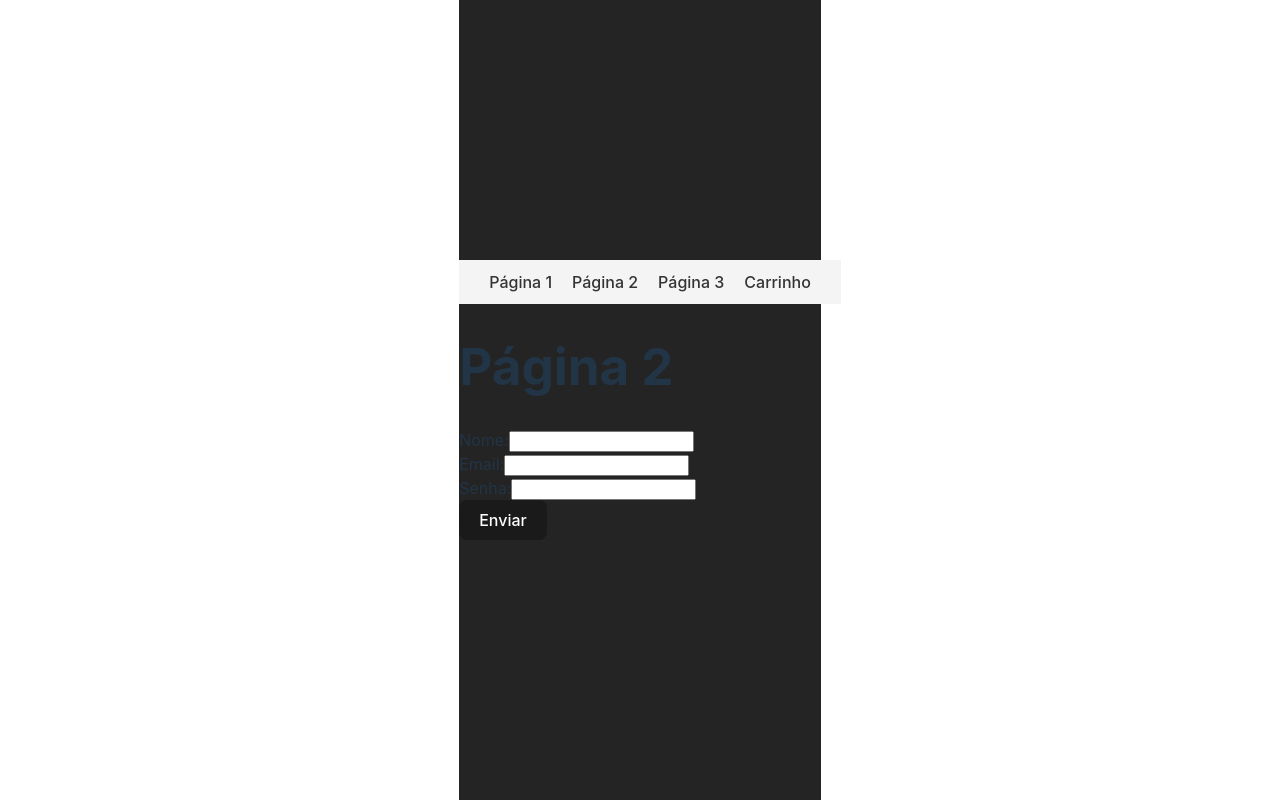
Test: Teste do Formulário - Página 2 › Deve fechar o modal ao clicar no botão de fechar
# Preencher e enviar o formulário
Type "Maria Santos" into the field with test id "nome-input" at (602, 443), box [509, 432, 694, 453]
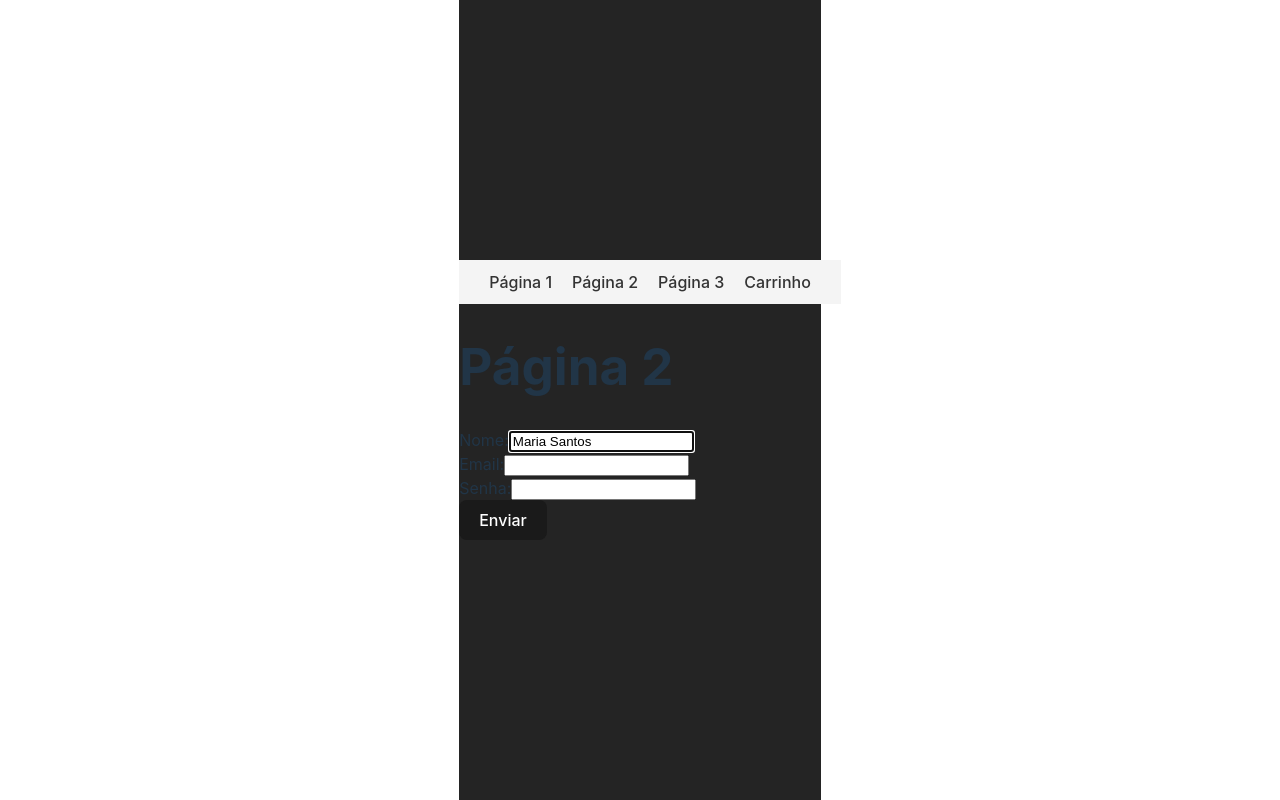
Type "maria.santos@example.com" into the field with test id "email-input" at (597, 467), box [504, 456, 689, 477]
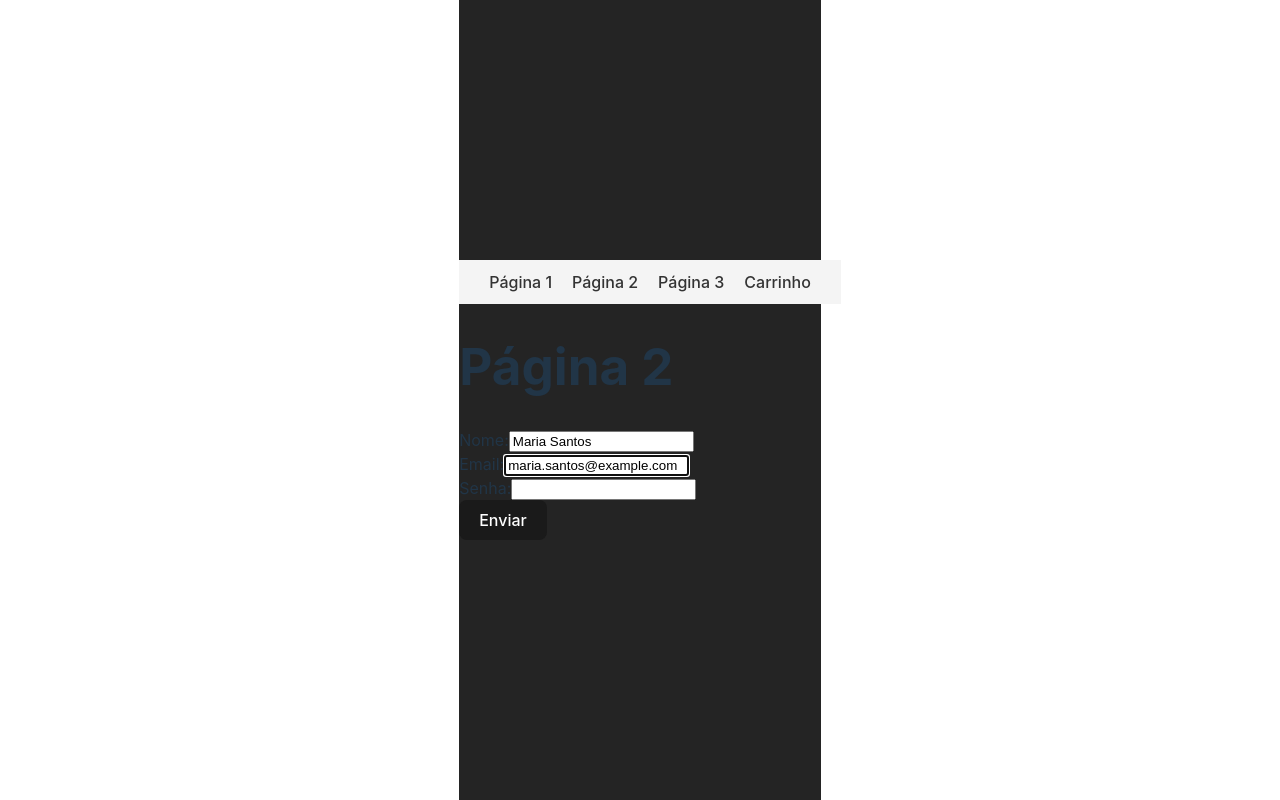
Type "senha456" into the password field with test id "senha-input" at (604, 491), box [511, 480, 696, 501]
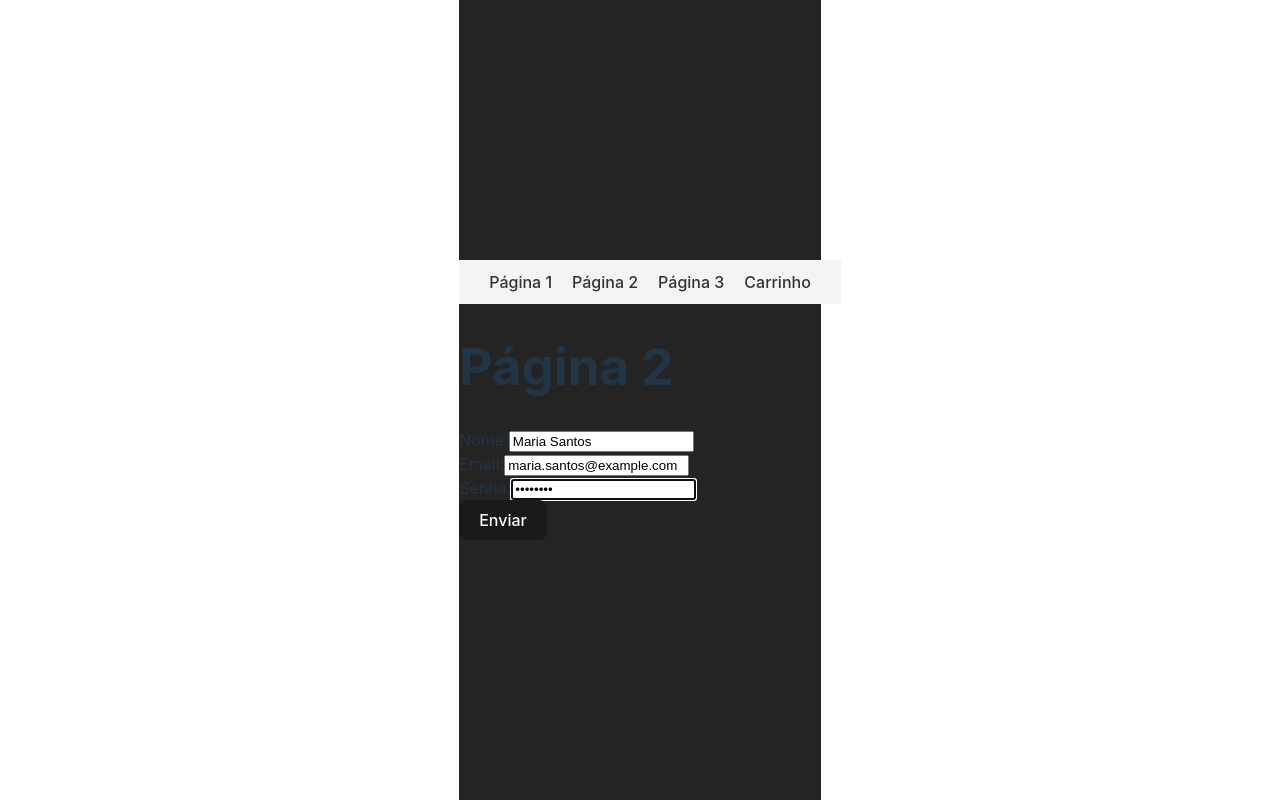
Click the button with test id "submit-button" at (503, 521), box [459, 501, 547, 541]
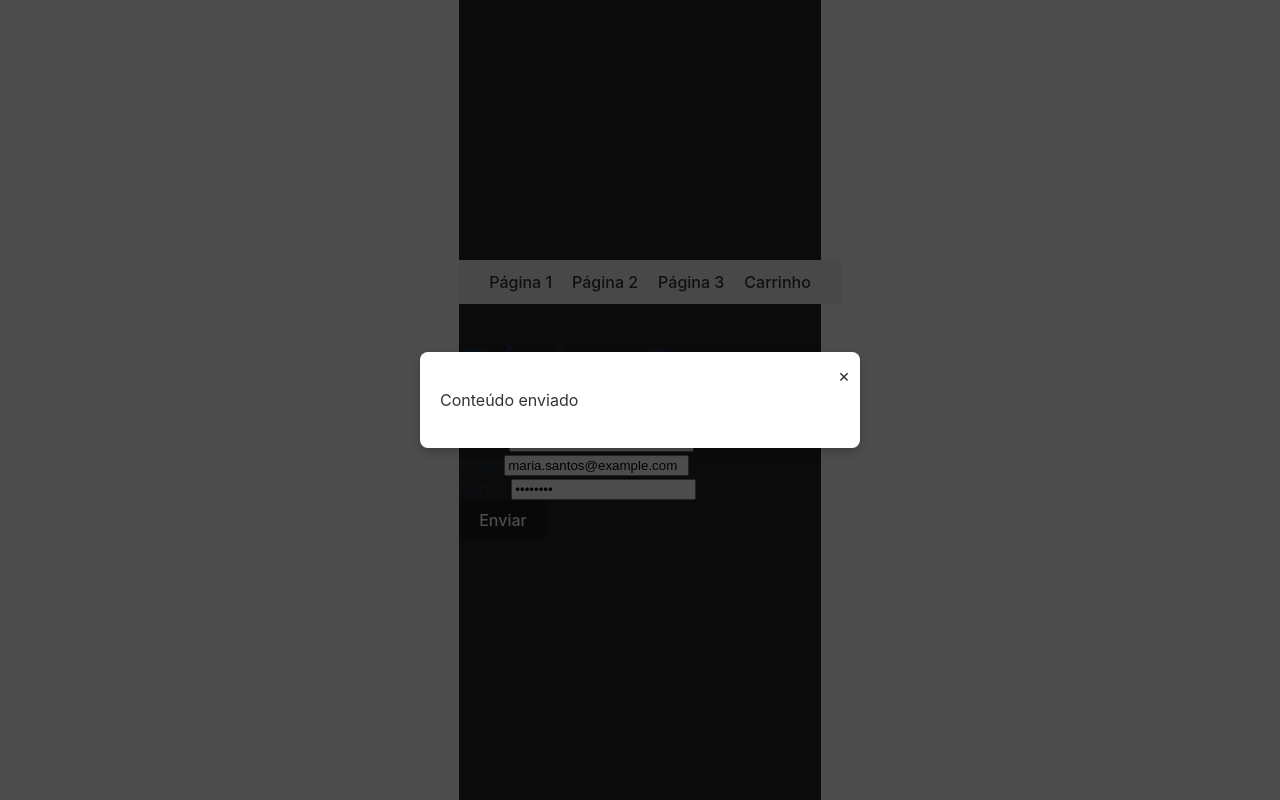
Check: the element with class "modal" is shown
# Fechar o modal clicando no X
Click the text with class "close" at (844, 376), box [838, 362, 850, 389]
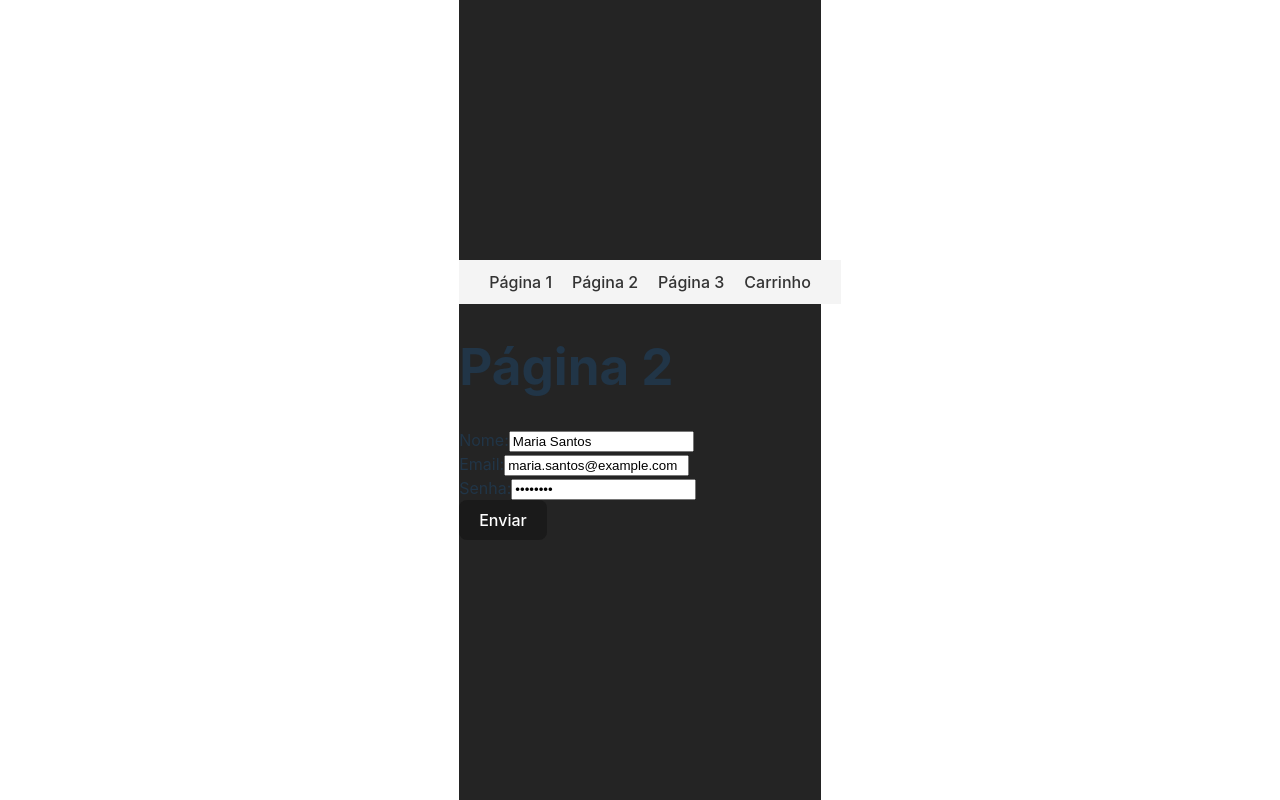
Check: the element with class "modal" is gone
